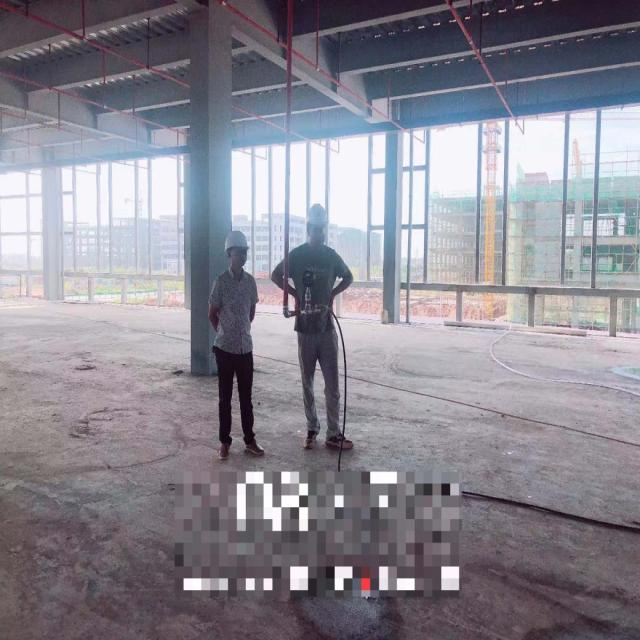crane: (483, 121, 501, 321)
